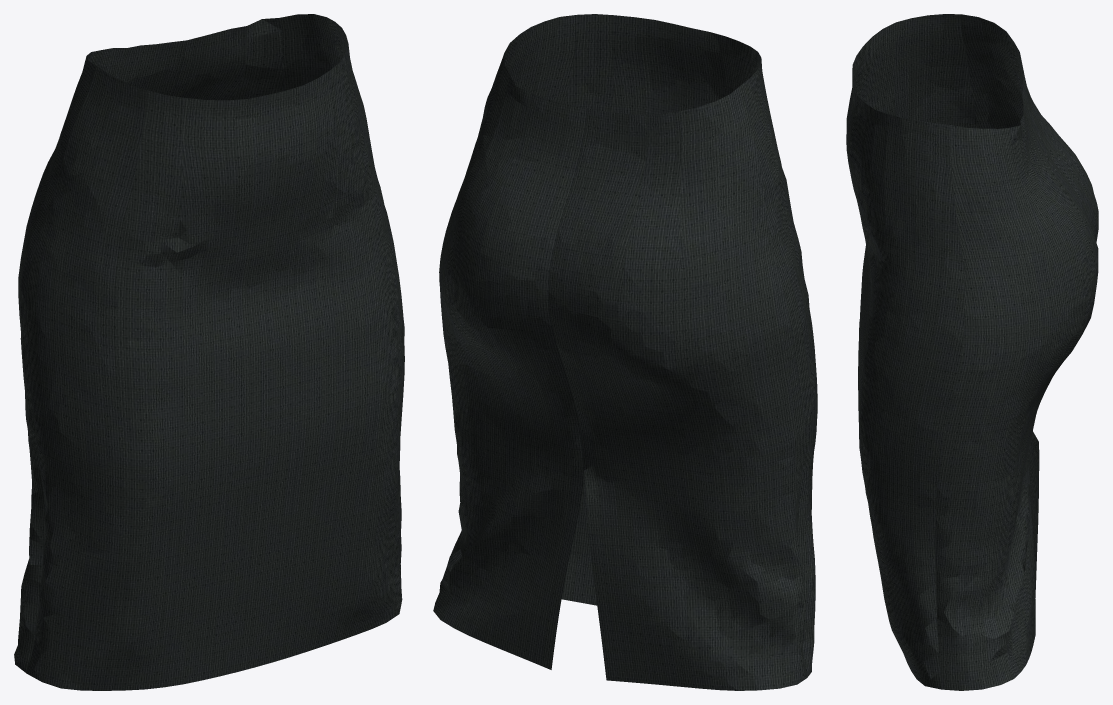
File: elvs-pencil-skirt.glb
3 views of the same model, side by side, from view 1: azimuth 30°, elevation 25°; view 2: azimuth 150°, elevation 25°; view 3: azimuth 270°, elevation 25° (orthographic). The views are drawn at different scales.
Parts seen in each view (by area): view 1: pencil skirt; view 2: pencil skirt; view 3: pencil skirt.
Boxes of the visible parts, x1=… form: pencil skirt: x1=14, y1=14, x2=404, y2=690; pencil skirt: x1=433, y1=14, x2=817, y2=690; pencil skirt: x1=846, y1=14, x2=1098, y2=690.
Size of the model in its own units: 39.58 by 61.7 by 25.59.
1 material, 1 textured.
